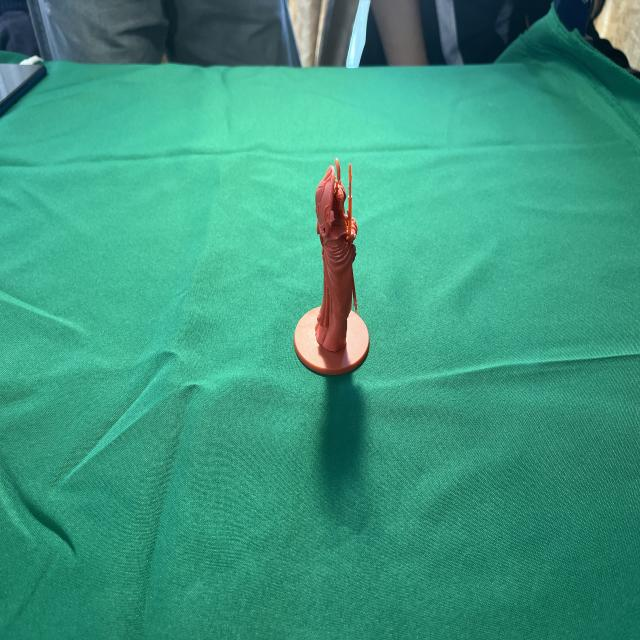amon: (291, 152, 372, 379)
